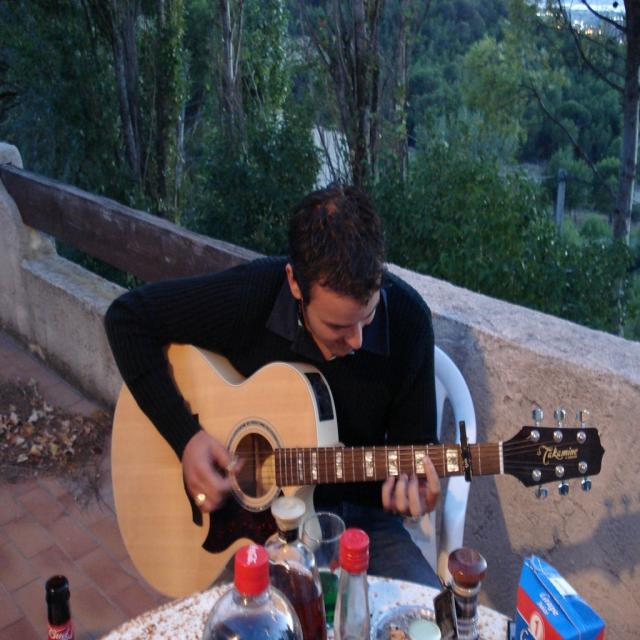guitar: (111, 342, 609, 602)
